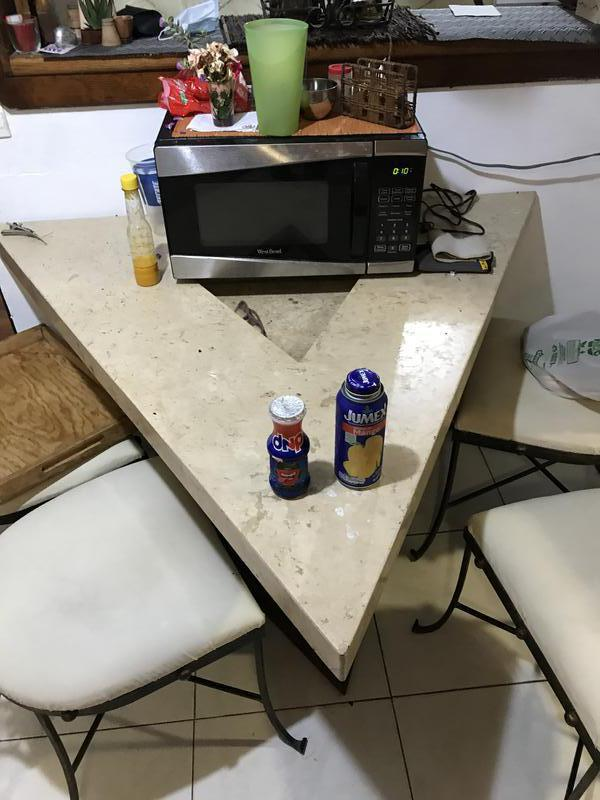danup: (267, 395, 314, 502)
jugo_jumex: (332, 370, 386, 488)
